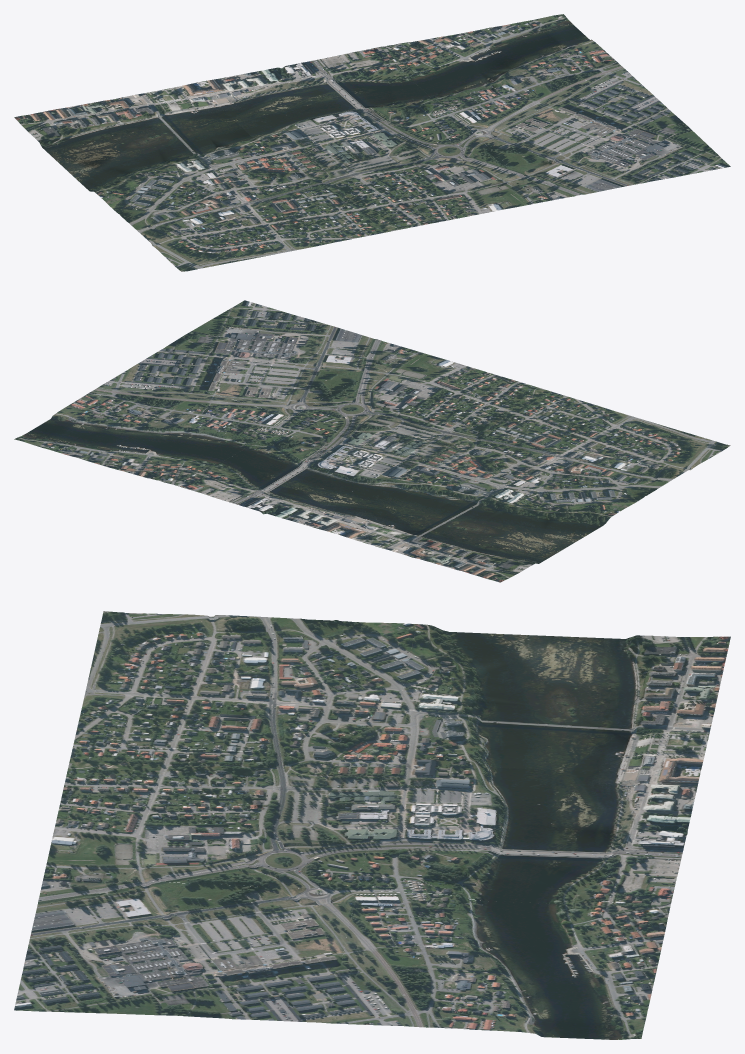
The model's file is PartialGroundLowRes.fbx.
3 views of the same model, one above another, from view 1: azimuth 30°, elevation 25°; view 2: azimuth 150°, elevation 25°; view 3: azimuth 270°, elevation 25° (orthographic). The views are drawn at different scales.
Parts seen in each view (by area): view 1: group4; view 2: group4; view 3: group4.
Boxes of the visible parts, x1=… form: group4: x1=14, y1=14, x2=730, y2=271; group4: x1=14, y1=300, x2=730, y2=582; group4: x1=14, y1=611, x2=730, y2=1039.
Size of the model in its own units: 1624 by 15.86 by 1164.
Materials: 6 (6 with a texture image).
